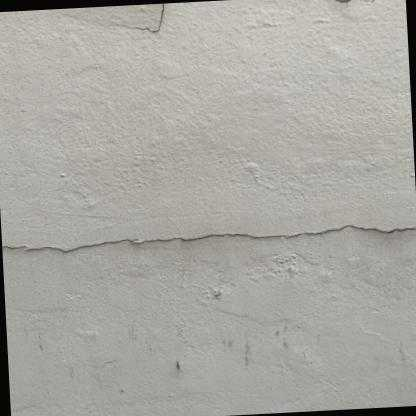crack: (2, 223, 416, 252)
